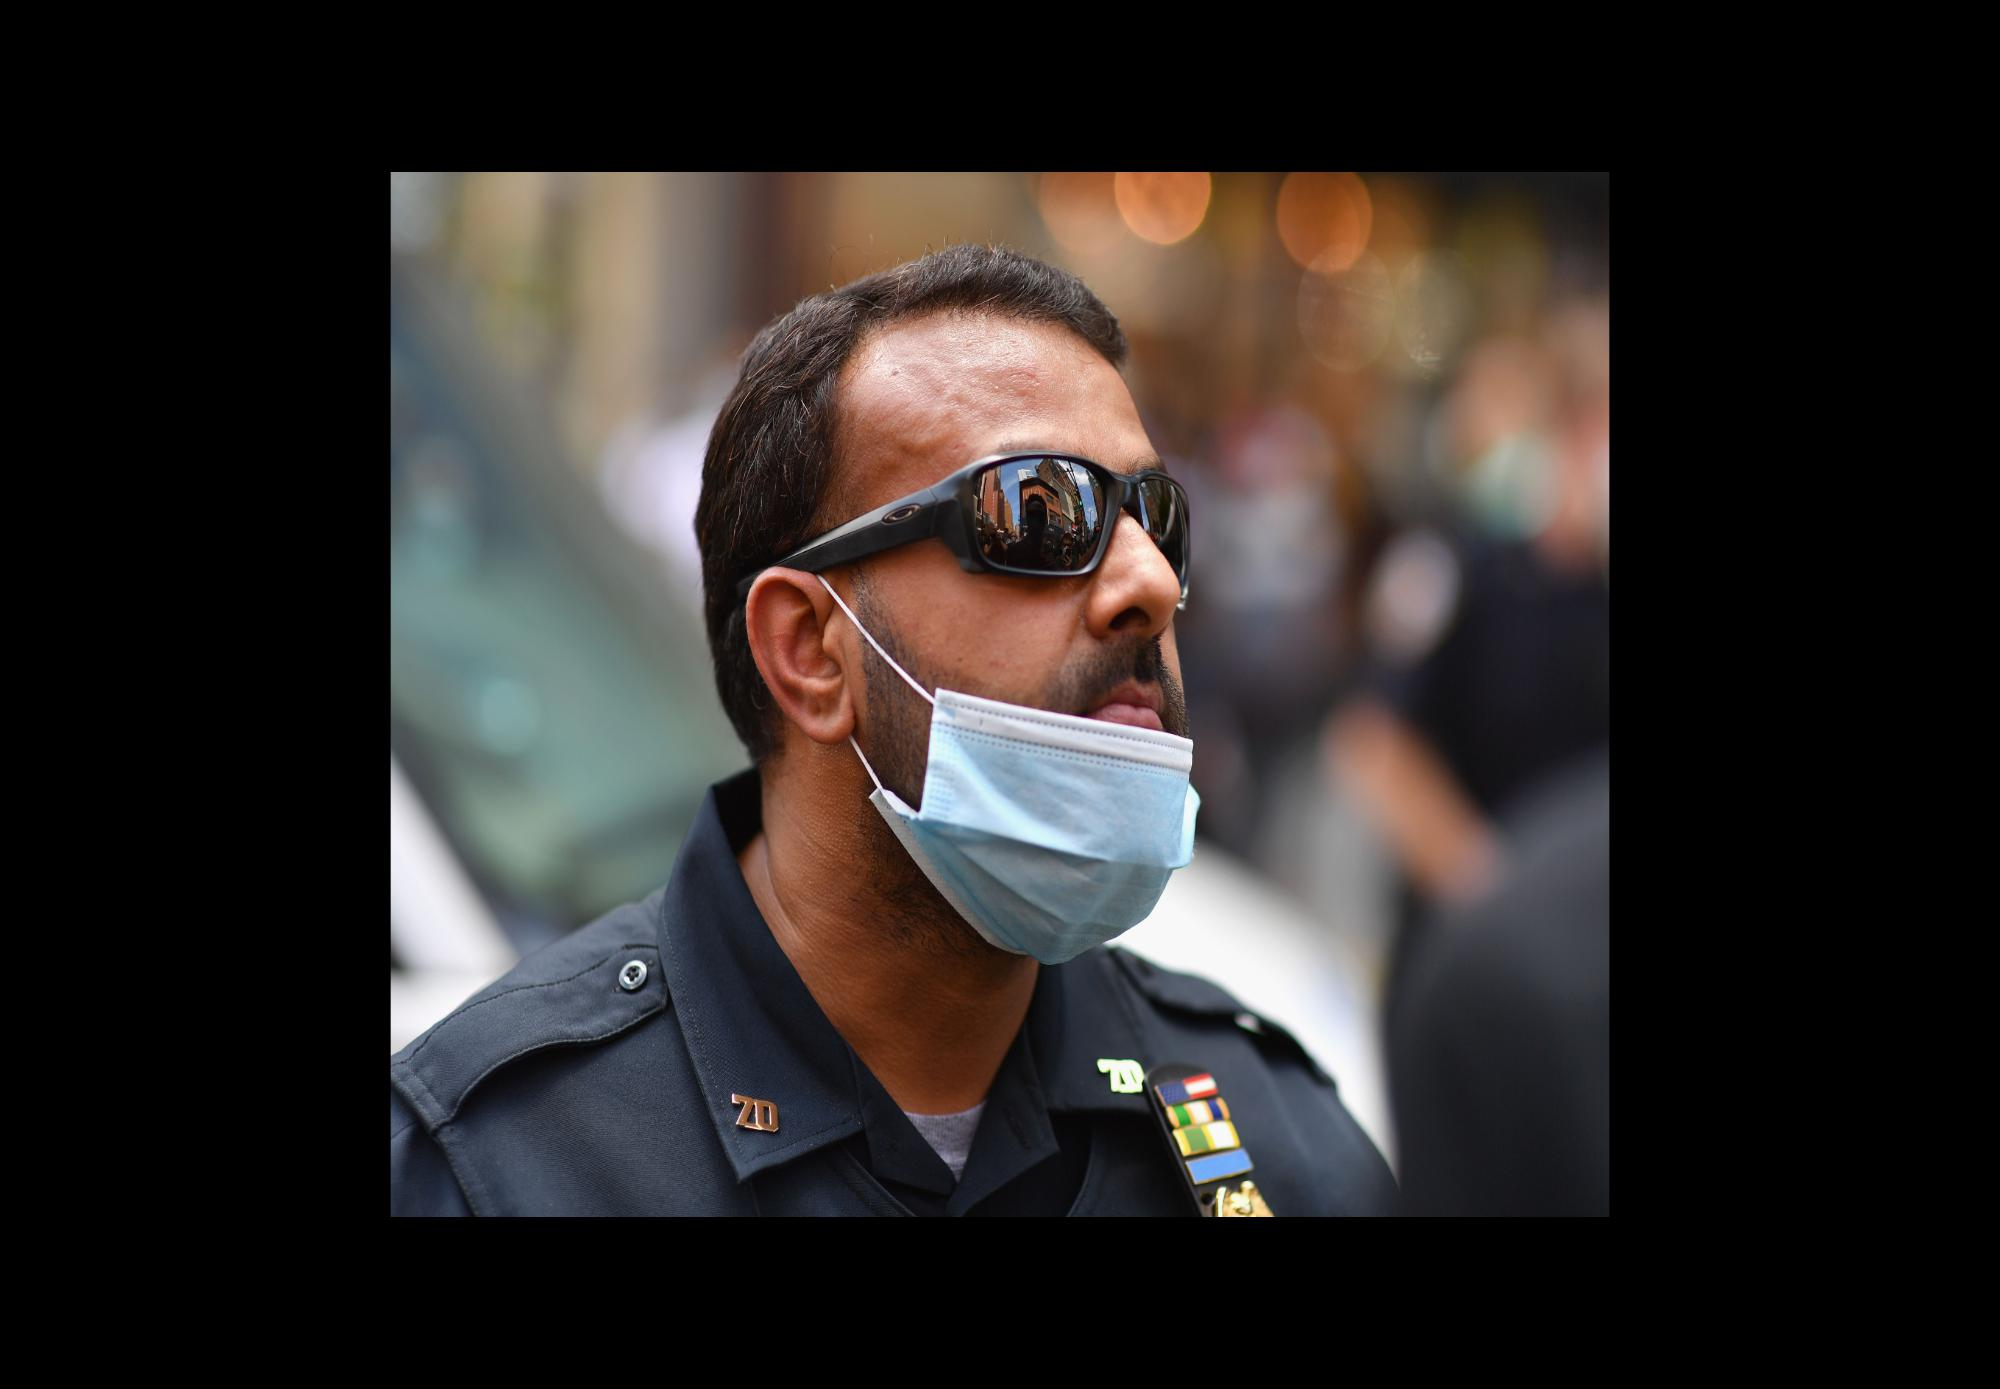mask_weared_incorrect: (859, 424, 1208, 922)
